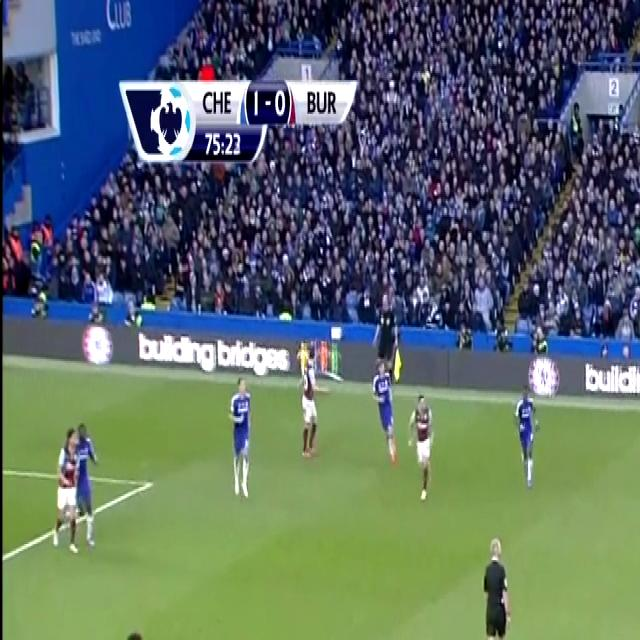referee: (474, 526, 517, 640), (370, 284, 399, 386)
soccer-player: (63, 414, 103, 564), (223, 370, 264, 507), (50, 418, 87, 566), (508, 377, 544, 493), (366, 347, 399, 471), (408, 383, 440, 509), (292, 340, 323, 464), (107, 618, 152, 640)
